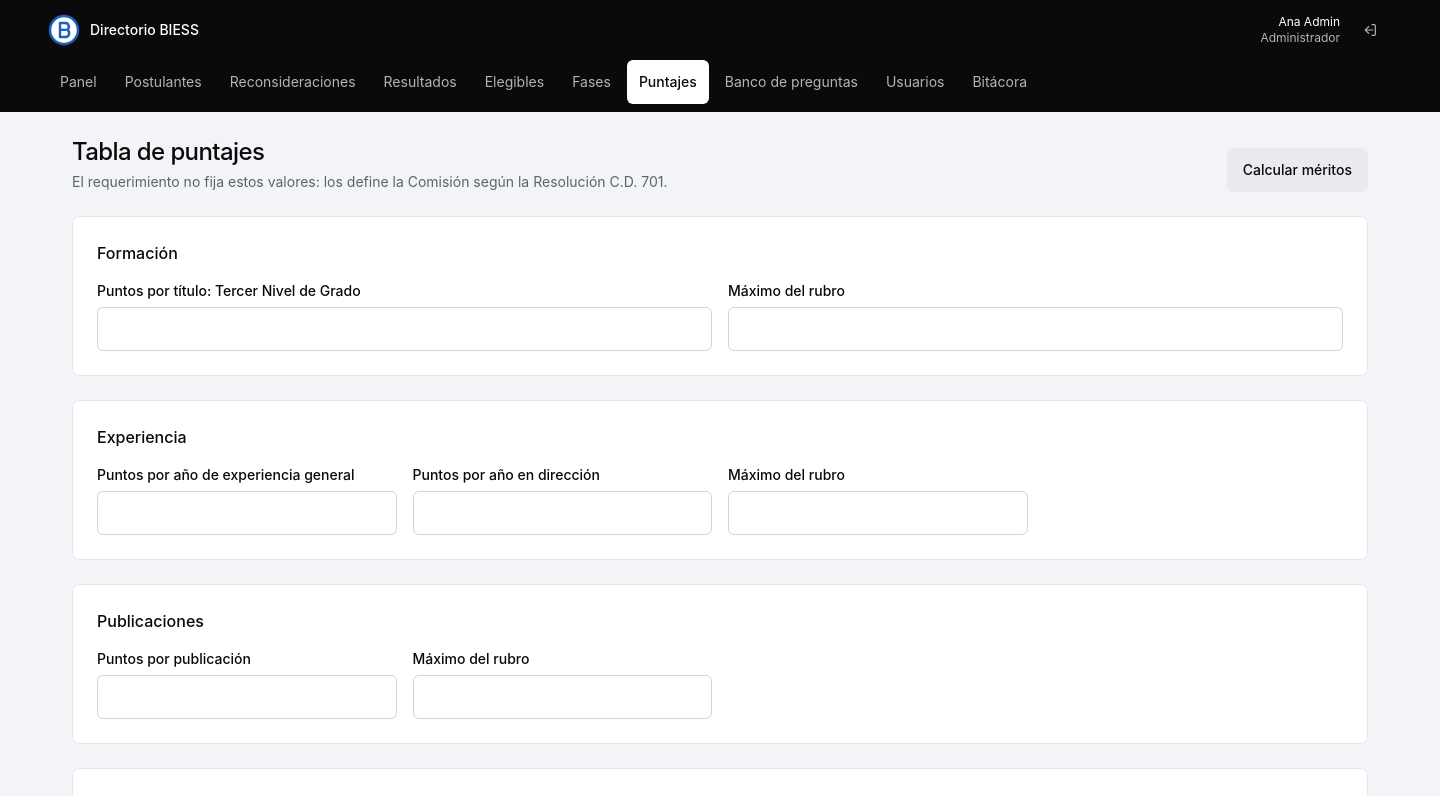
tabla de puntajes › guarda los valores como números y calcula los méritos
Type "10" into the number field labelled "Puntos por título: Tercer Nivel de Grado" at (404, 329), box [97,307,712,351]
(page scrolled)
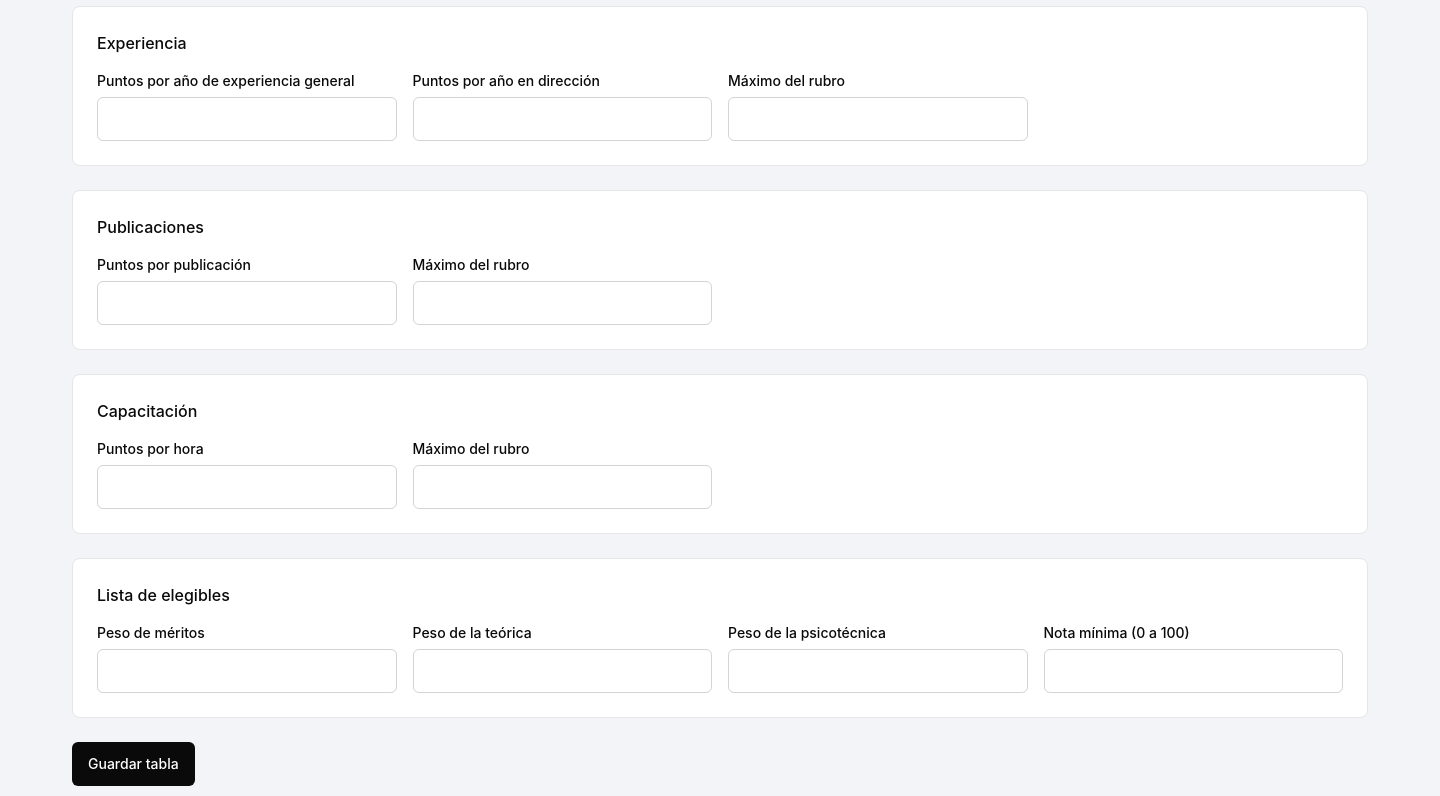
Type "70" into the number field labelled "Nota mínima (0 a 100)" at (1193, 671), box [1044,649,1343,693]
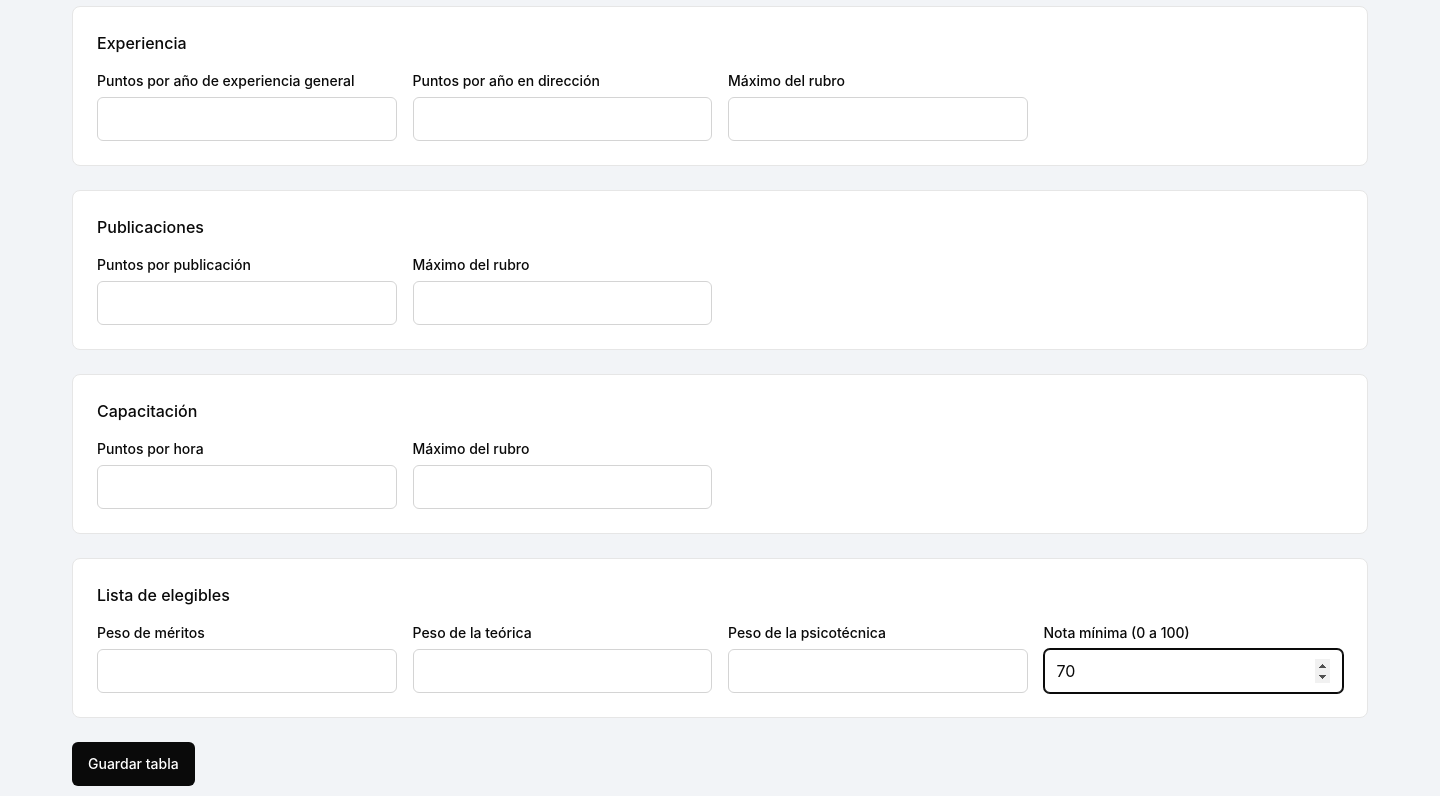
Click the button "Guardar tabla" at (133, 764), box [72,742,195,786]
(page scrolled)
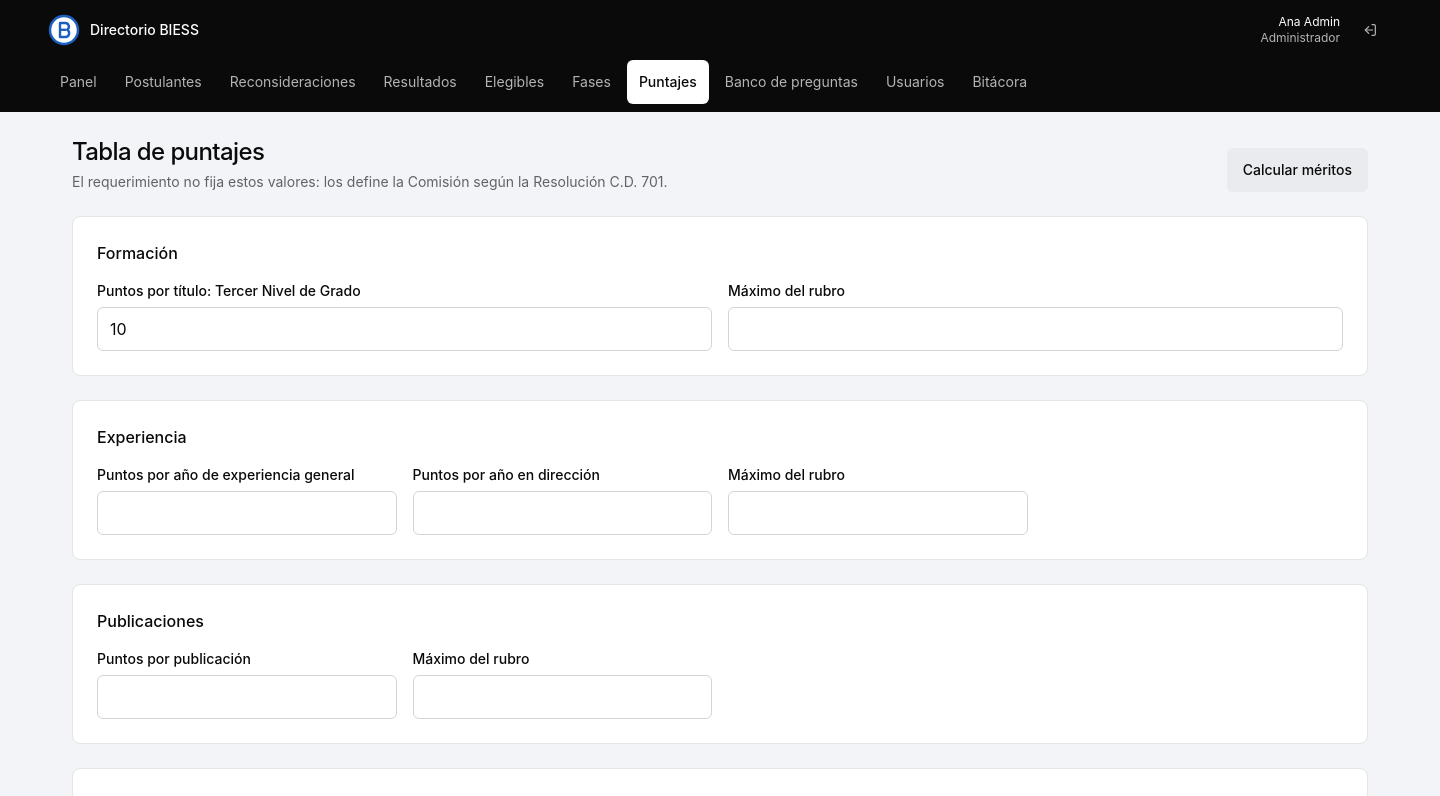
Click the button "Calcular méritos" at (1297, 170), box [1227,148,1368,192]
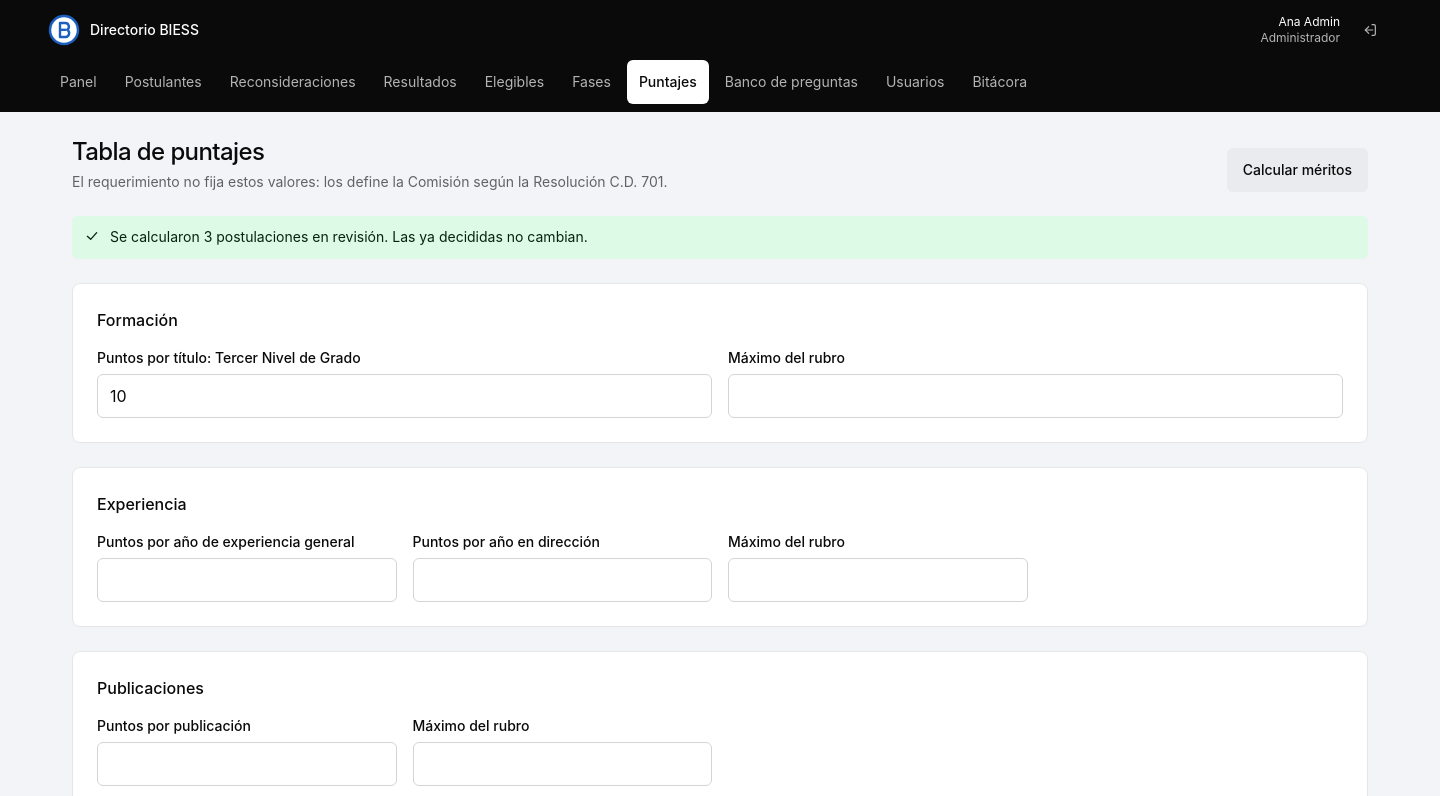
Check: the text "Se calcularon 3 postulaciones" is shown, box [110,226,588,249]
